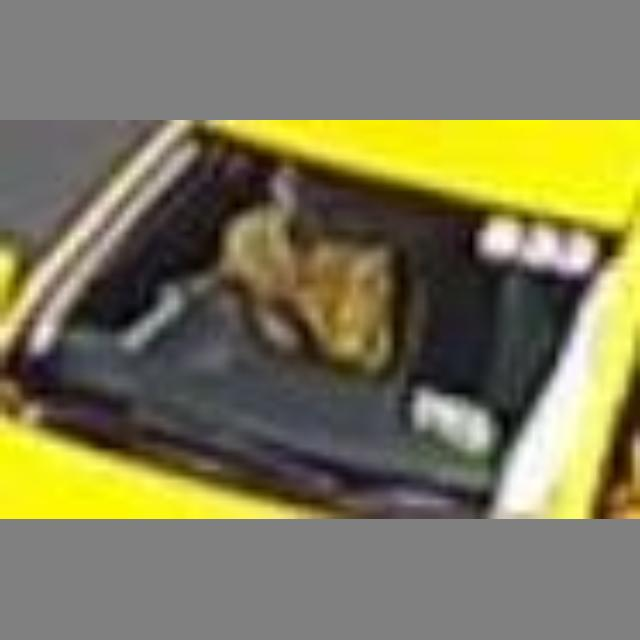tidak-pakai: (151, 154, 399, 382)
